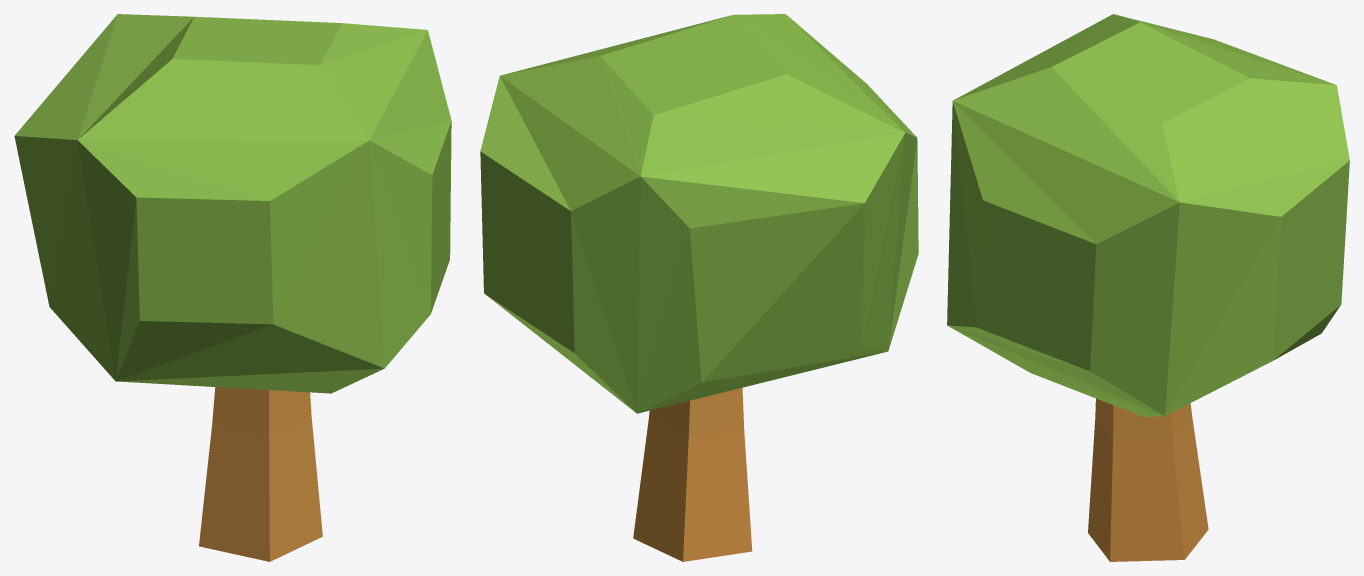
The model's file is tree_04_mesh1932686607.glb.
The picture shows the model from 3 angles, left to right: view 1: azimuth 30°, elevation 25°; view 2: azimuth 150°, elevation 25°; view 3: azimuth 270°, elevation 25°; orthographic projection. The views are drawn at different scales.
Parts seen in each view (by area): view 1: part_1_mesh1932686607, part_2_mesh1932686607_1; view 2: part_1_mesh1932686607, part_2_mesh1932686607_1; view 3: part_1_mesh1932686607, part_2_mesh1932686607_1.
Boxes of the visible parts, x1,y1,x2,y2 form: part_1_mesh1932686607: (14, 14, 451, 393); part_2_mesh1932686607_1: (199, 387, 322, 561); part_1_mesh1932686607: (480, 14, 918, 413); part_2_mesh1932686607_1: (633, 387, 752, 561); part_1_mesh1932686607: (947, 14, 1349, 416); part_2_mesh1932686607_1: (1088, 398, 1208, 561).
Size of the model in its own units: 0.1894 by 0.23 by 0.1747.
